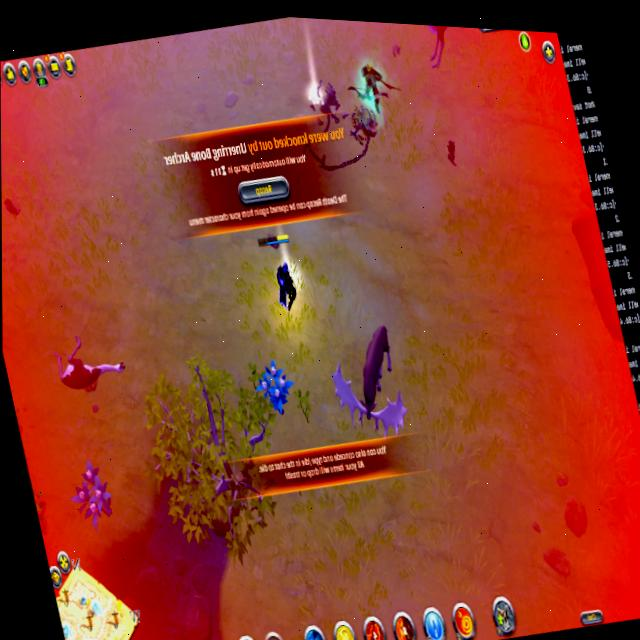hide: (62, 441, 124, 536), (248, 349, 298, 423), (28, 468, 60, 541)
ore: (313, 299, 422, 457), (42, 320, 131, 400), (337, 44, 406, 138), (410, 24, 465, 77)
red: (253, 224, 313, 323)
